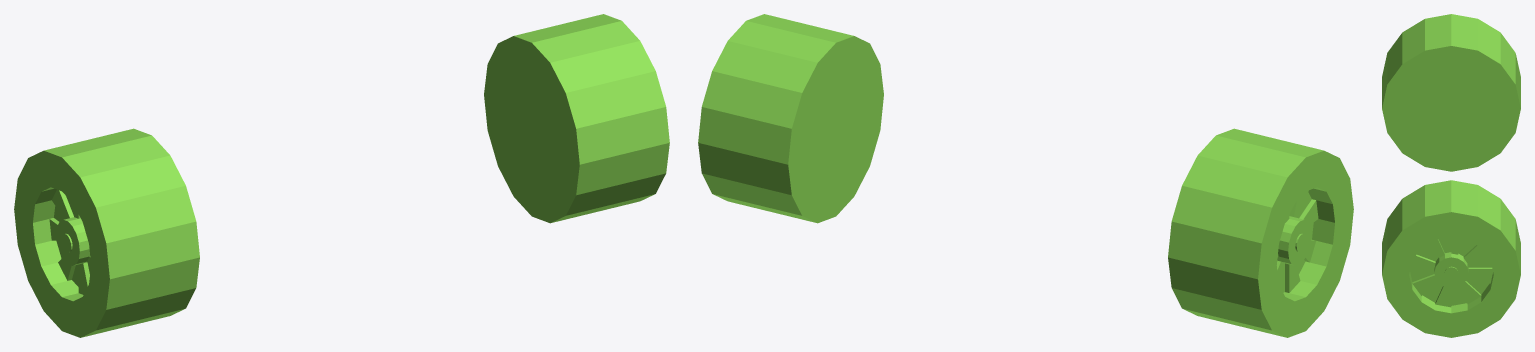
The model's file is Llantastraseras.obj.
3 views of the same model, side by side, from view 1: azimuth 30°, elevation 25°; view 2: azimuth 150°, elevation 25°; view 3: azimuth 270°, elevation 25° (orthographic). The views are drawn at different scales.
Parts seen in each view (by area): view 1: Cylinder_004_Cylinder_006; view 2: Cylinder_004_Cylinder_006; view 3: Cylinder_004_Cylinder_006.
Part boxes in pixels (<box>): Cylinder_004_Cylinder_006: <box>14,14,669,337</box>; Cylinder_004_Cylinder_006: <box>698,14,1353,337</box>; Cylinder_004_Cylinder_006: <box>1382,14,1520,337</box>.
Bounding box in the file's own units: 2.68 × 0.7947 × 0.7947.
